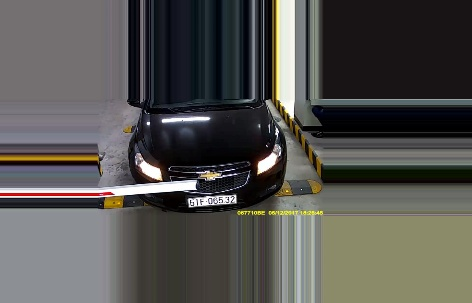plate: (185, 192, 239, 208)
